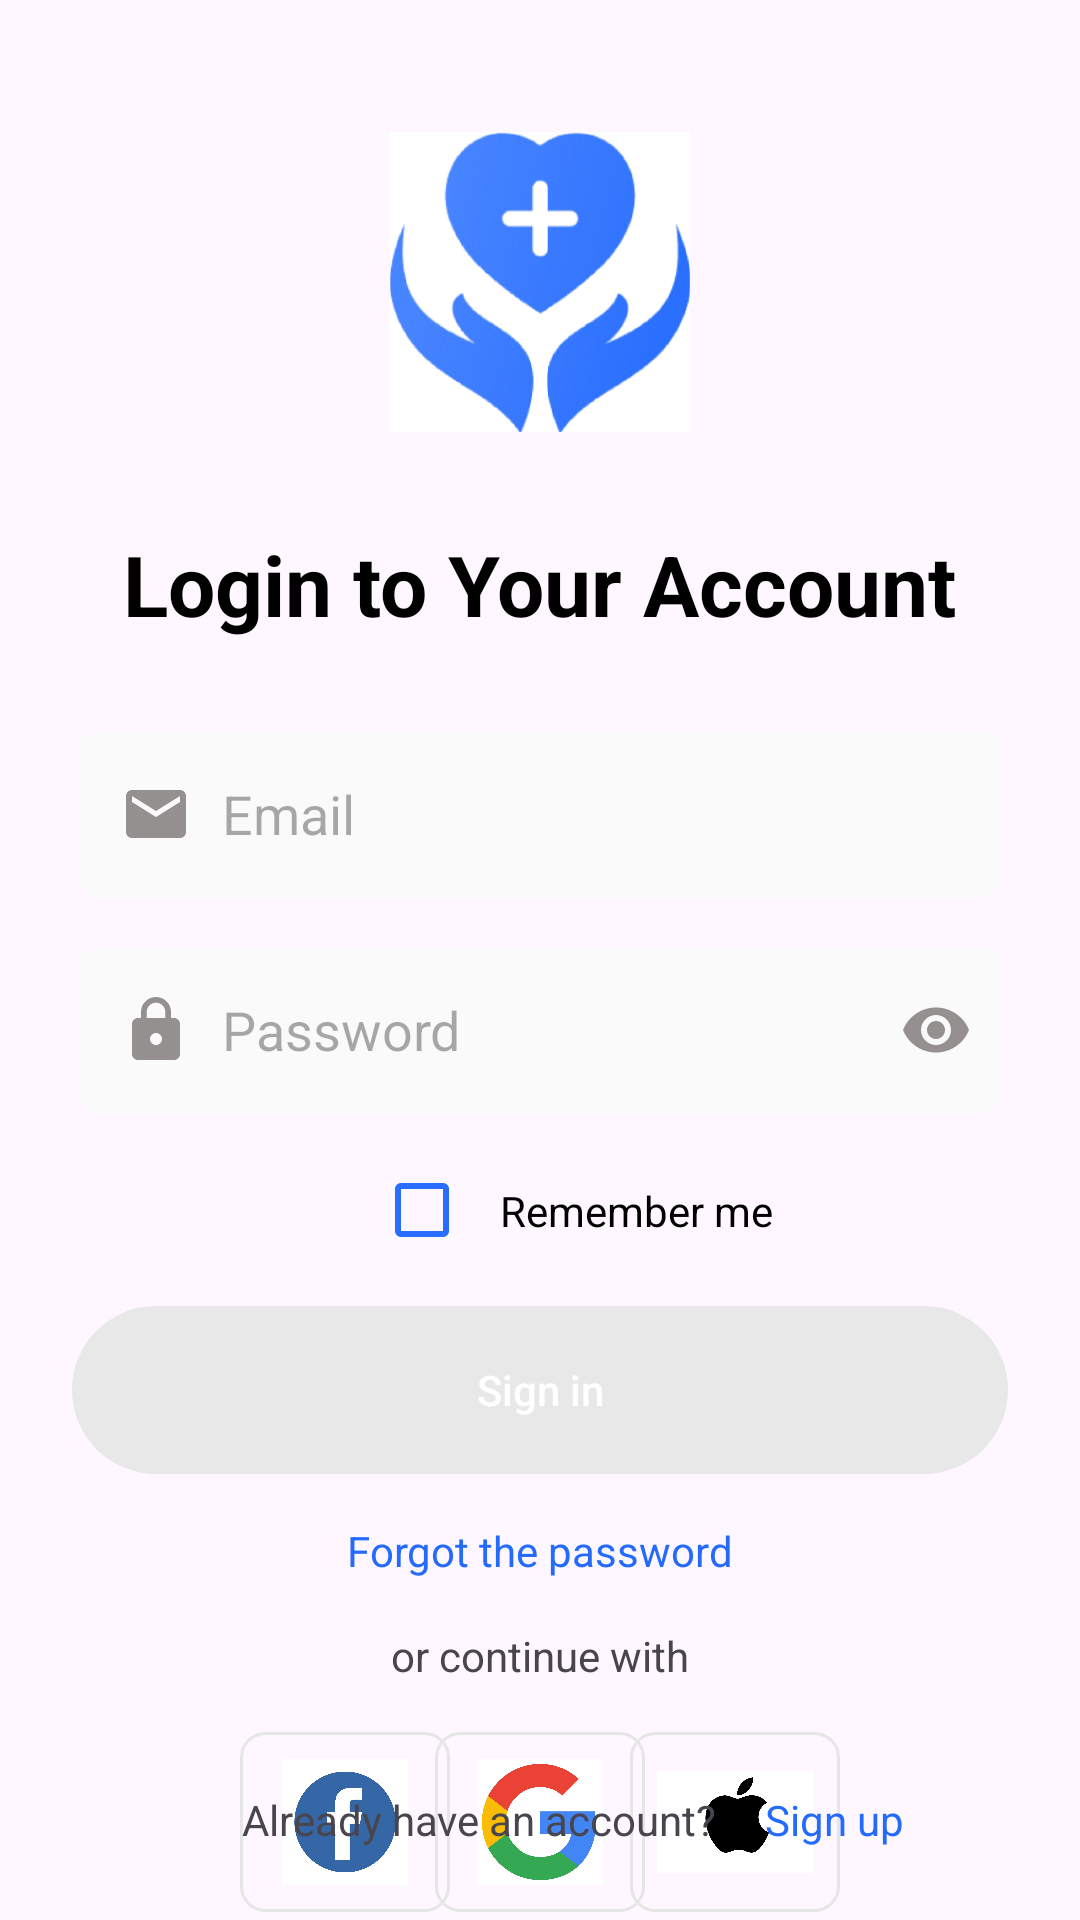

Where to tap for icons on this 1080*1920 app screen, as point (x, y):
lock: point (156, 1028)
